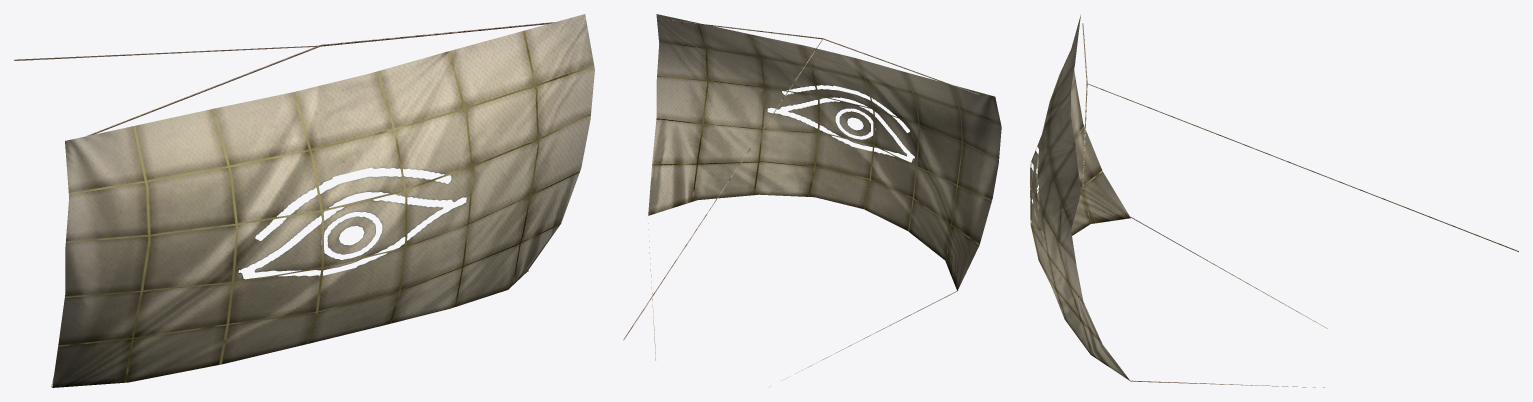
File: hele_trireme_mainsail.dae
3 views of the same model, side by side, from view 1: azimuth 30°, elevation 25°; view 2: azimuth 150°, elevation 25°; view 3: azimuth 270°, elevation 25° (orthographic). The views are drawn at different scales.
Visible parts, largest first — view 1: Plane; view 2: Plane; view 3: Plane.
Boxes of the visible parts, x1=… form: Plane: x1=14, y1=14, x2=594, y2=387; Plane: x1=623, y1=14, x2=1001, y2=380; Plane: x1=1030, y1=15, x2=1518, y2=387.
Size of the model in its own units: 19.23 by 13.66 by 21.95.
